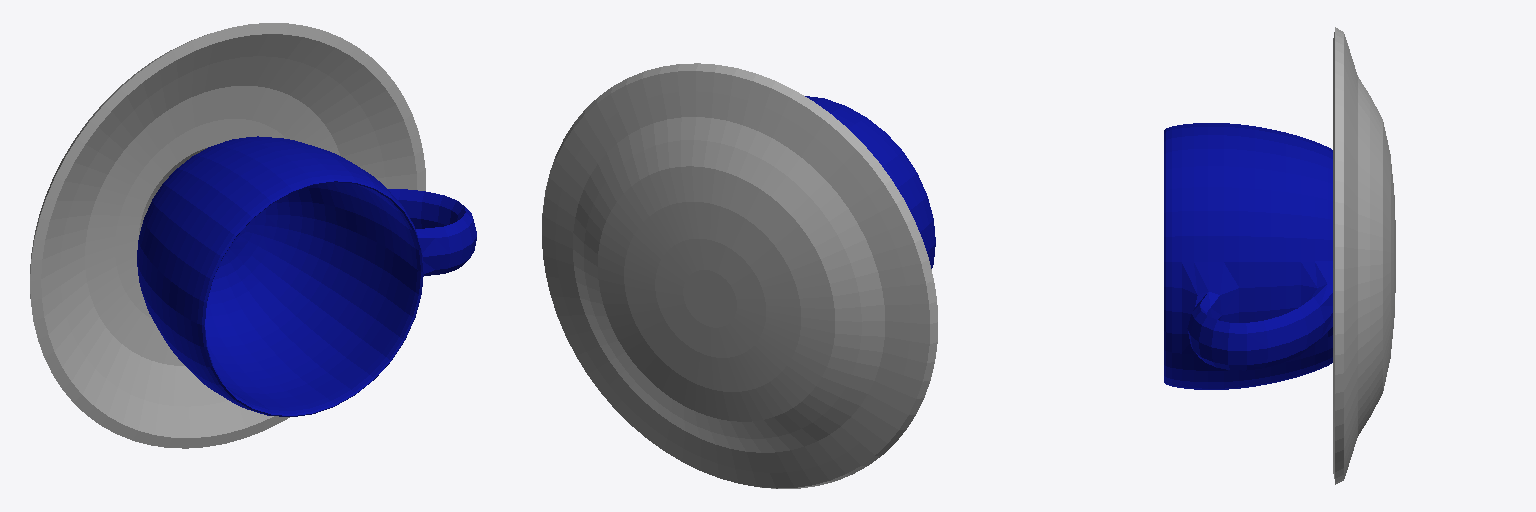
File: BlueBatakNEW.obj
The picture shows the model from 3 angles: view 1: azimuth 30°, elevation 25°; view 2: azimuth 150°, elevation 25°; view 3: azimuth 270°, elevation 25°; orthographic projection.
Parts seen in each view (by area): view 1: 13.0.114.0; view 2: 13.0.114.0; view 3: 13.0.114.0.
Part boxes in pixels (x1,y1,x2,y2): 13.0.114.0: (30, 23, 476, 448); 13.0.114.0: (542, 63, 937, 488); 13.0.114.0: (1164, 27, 1395, 484).
Bounding box in the file's own units: 12.04 × 12.04 × 6.09.